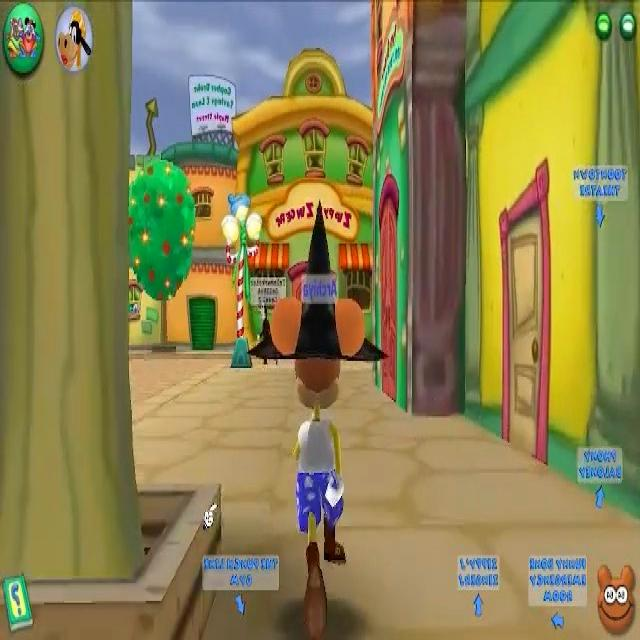telemarketer: (249, 276, 286, 368)
